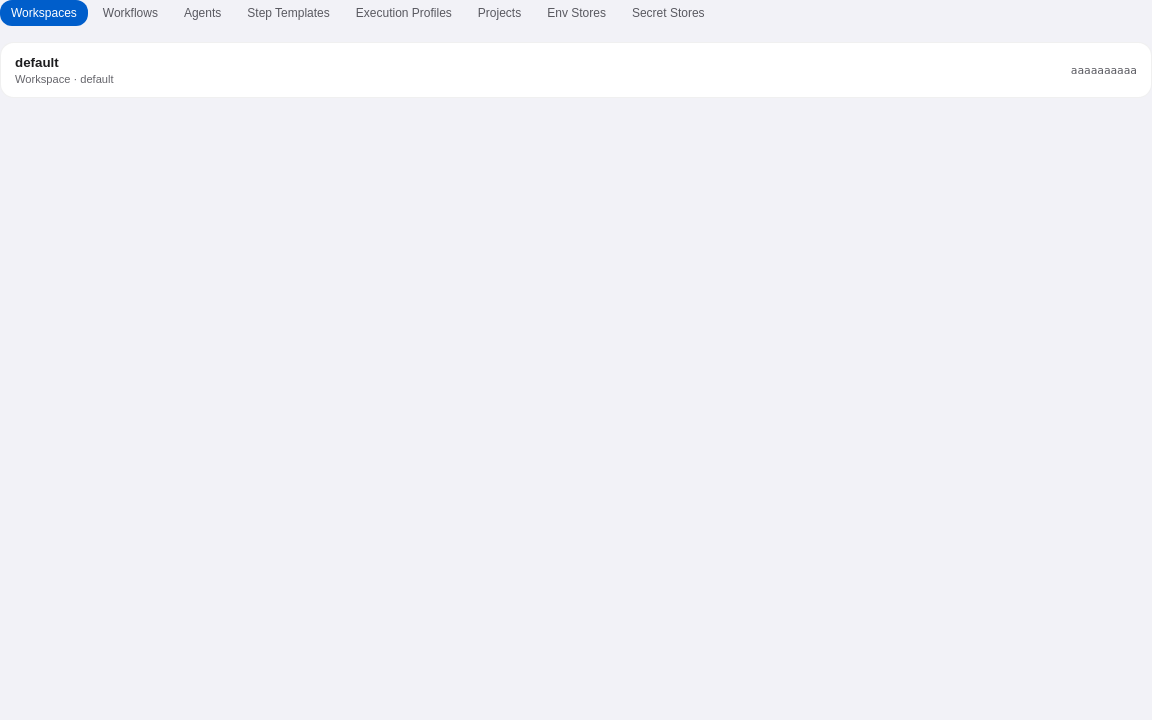
ExpertResources › reloads a conflicting authority revision without discarding the local draft
Click the button with aria-label "打开 Workspace default". click: (37,62)
box: x1=1 y1=43 x2=1151 y2=97
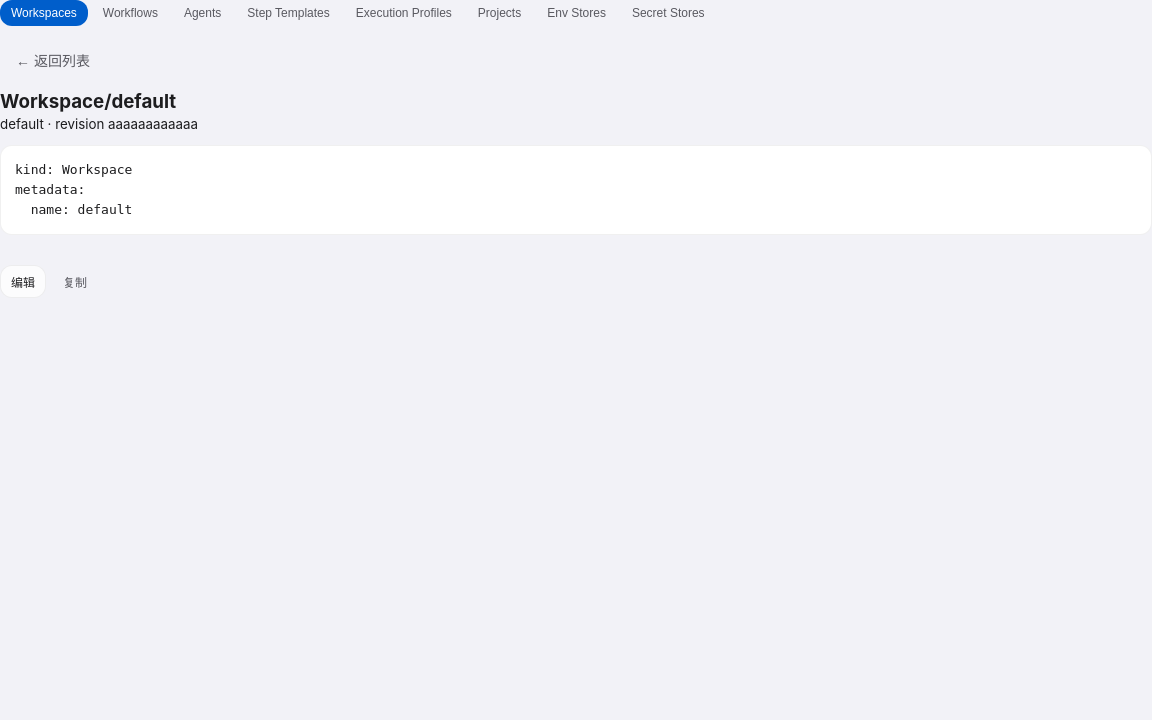
Click the button "编辑". click: (23,282)
box: x1=0 y1=265 x2=46 y2=298
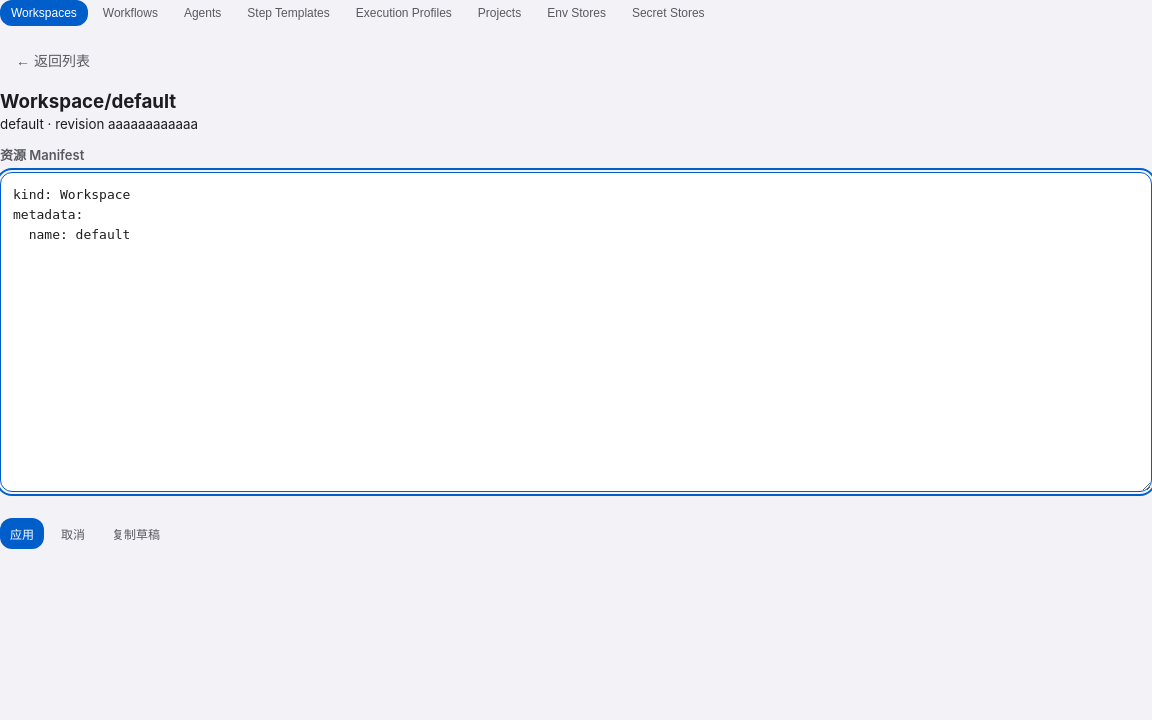
Replace the text in the text box labelled "资源 Manifest" with "local-draft-marker". click: (576,332)
box: x1=0 y1=172 x2=1151 y2=492
Click the button "应用". click: (22,534)
box: x1=0 y1=518 x2=44 y2=549
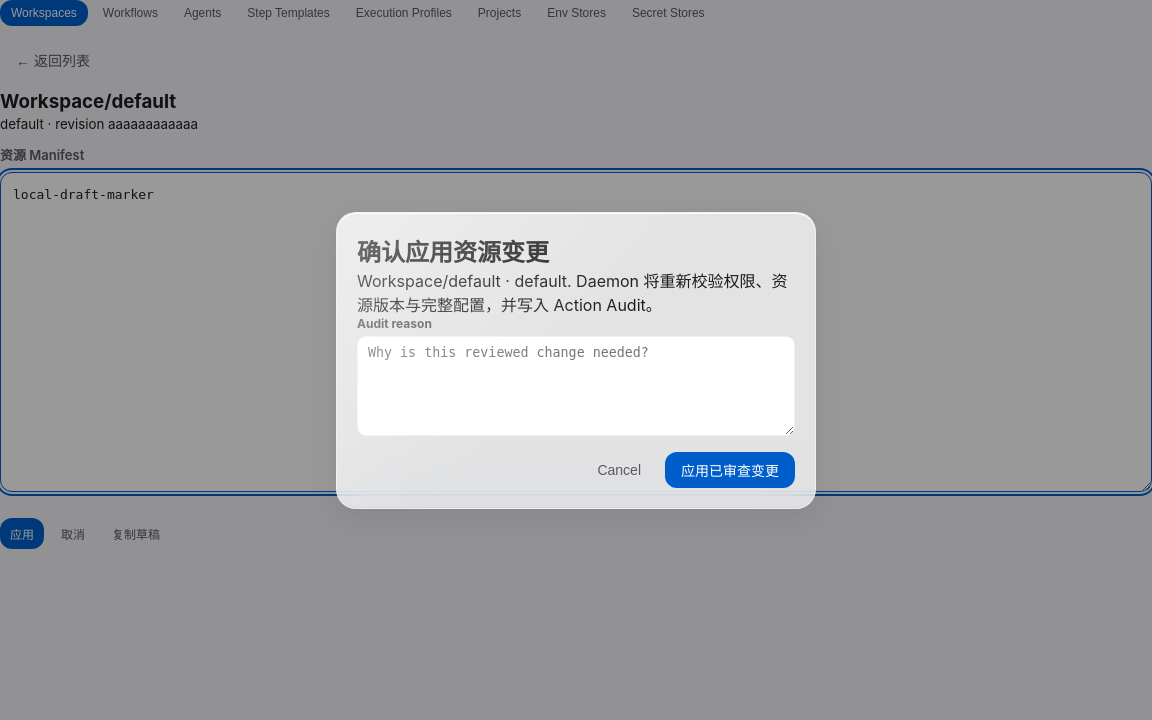
Type "exercise conflict" into the text box labelled "Audit reason". click: (576,386)
box: x1=357 y1=336 x2=795 y2=436
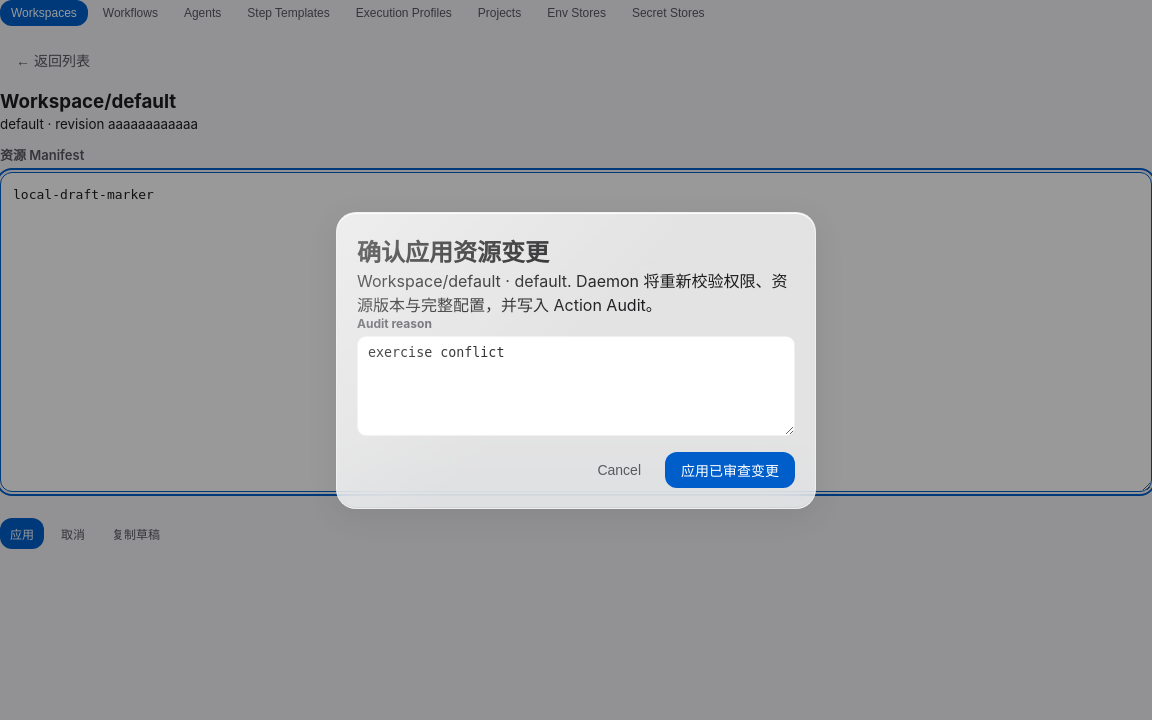
Click the button "应用已审查变更". click: (730,470)
box: x1=665 y1=452 x2=795 y2=488
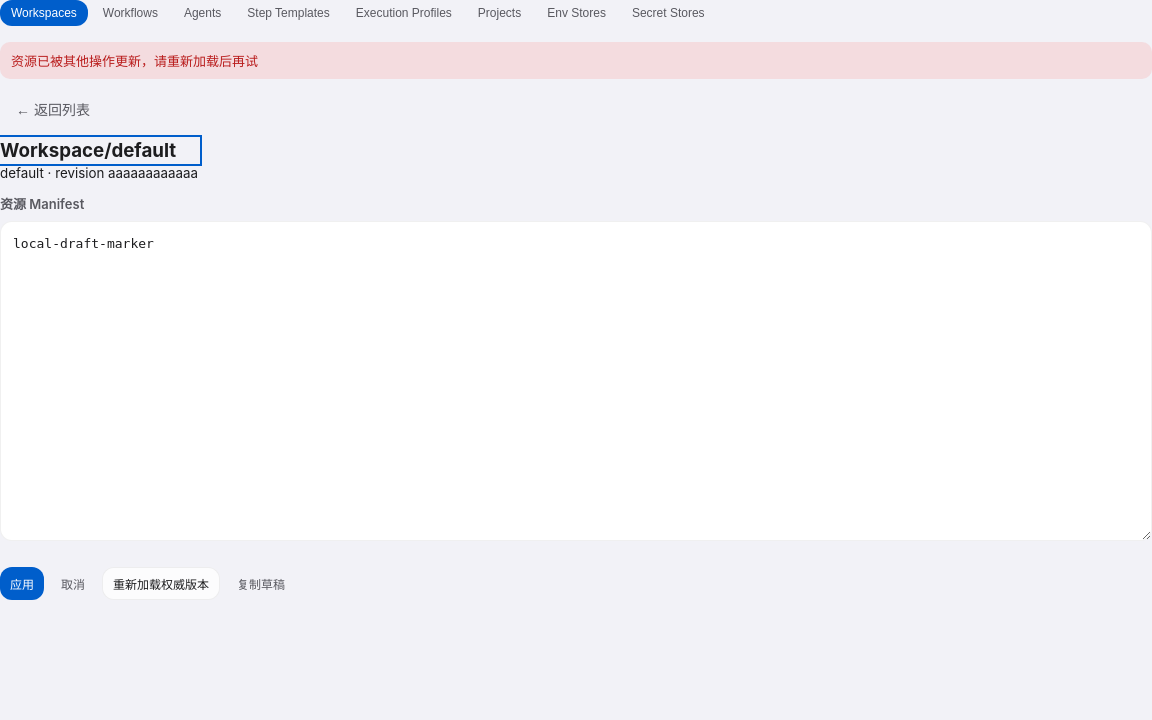
Click the button "重新加载权威版本". click: (161,584)
box: x1=102 y1=567 x2=220 y2=600
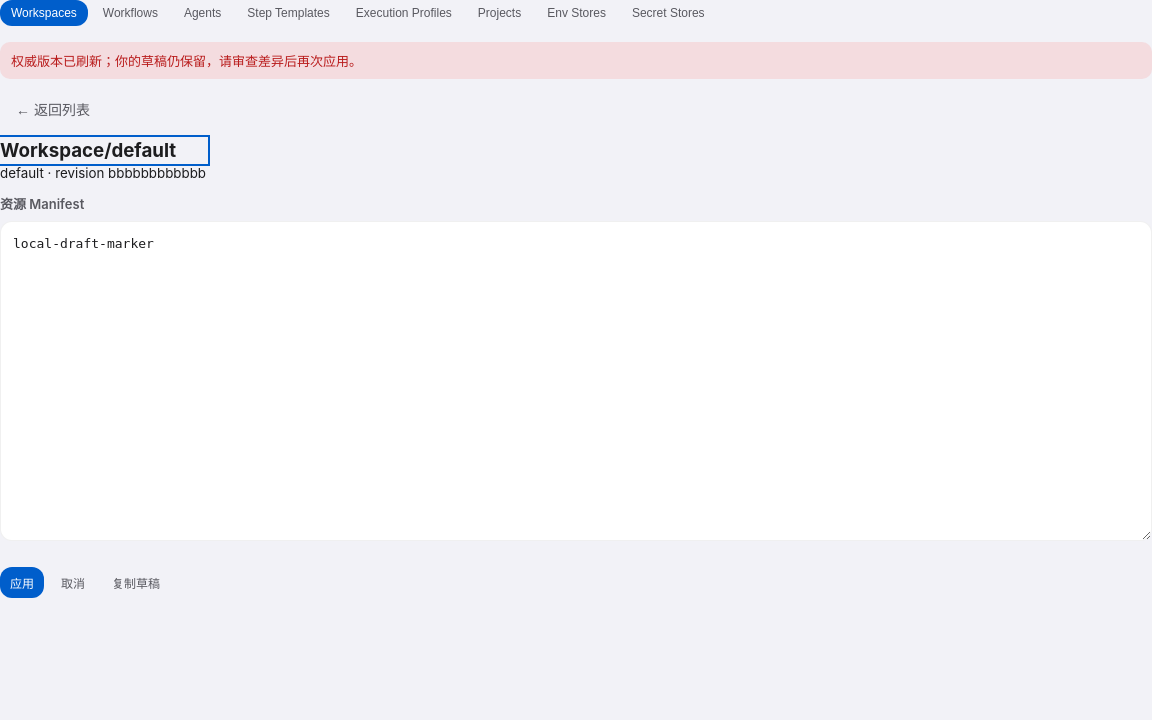
Now the message shows "草稿仍保留", box x1=11 y1=53 x2=362 y2=69
Now the text "default · revision bbbbbbbbbbbb" is shown, box x1=0 y1=165 x2=206 y2=181
